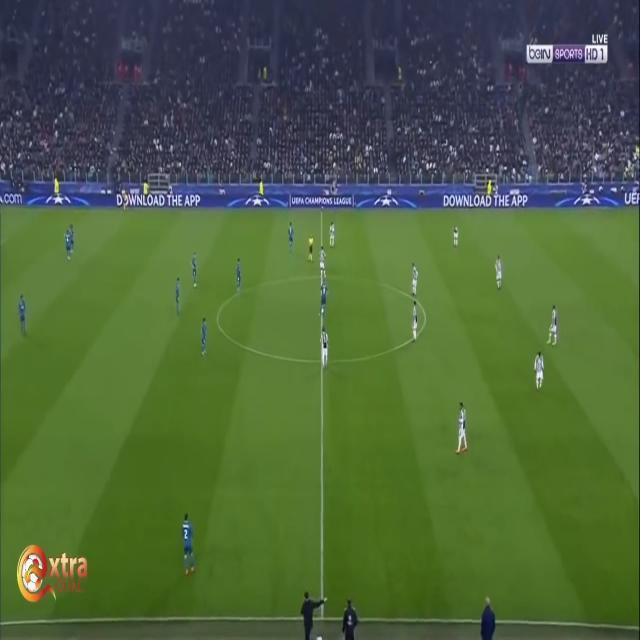ball: (547, 303, 558, 350), (494, 252, 504, 296), (321, 304, 325, 317)
player: (177, 511, 201, 577), (456, 398, 470, 458), (533, 349, 547, 393), (198, 313, 211, 360), (231, 257, 246, 296), (18, 292, 28, 337), (410, 301, 420, 344), (318, 244, 329, 279), (192, 249, 201, 291), (322, 328, 331, 370), (286, 218, 297, 252), (321, 279, 329, 320), (174, 278, 182, 317), (63, 231, 72, 265), (327, 221, 337, 250), (411, 261, 418, 300), (68, 225, 76, 258), (451, 222, 460, 248)
referee: (307, 230, 316, 265)
